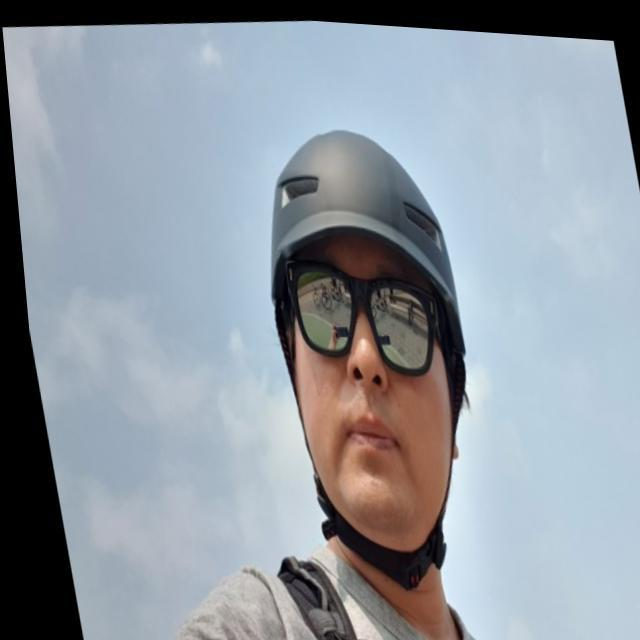Helmet: (262, 125, 475, 545)
